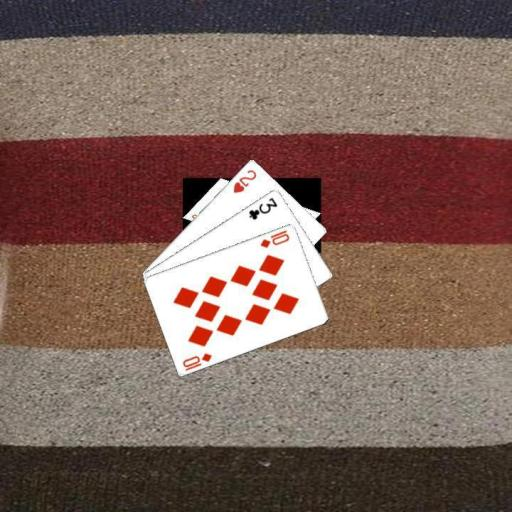card-corner: (245, 194, 279, 221), (230, 166, 258, 194), (257, 227, 291, 249), (180, 350, 214, 372)
